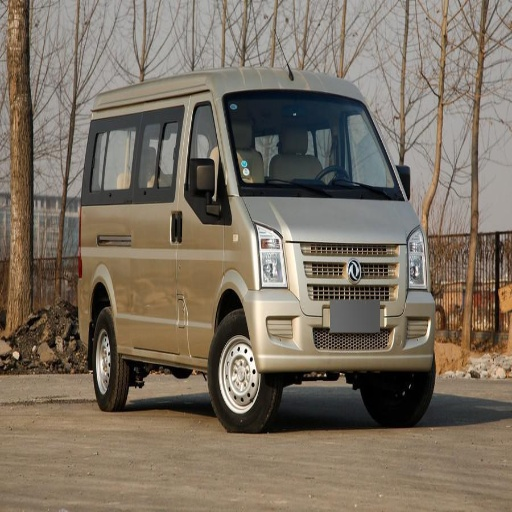front_bumper: (248, 242, 434, 371)
front_right_door: (171, 100, 230, 273)
front_right_light: (258, 230, 290, 288)
hood: (274, 197, 415, 242)
trunk: (134, 252, 220, 344), (77, 228, 106, 313)
